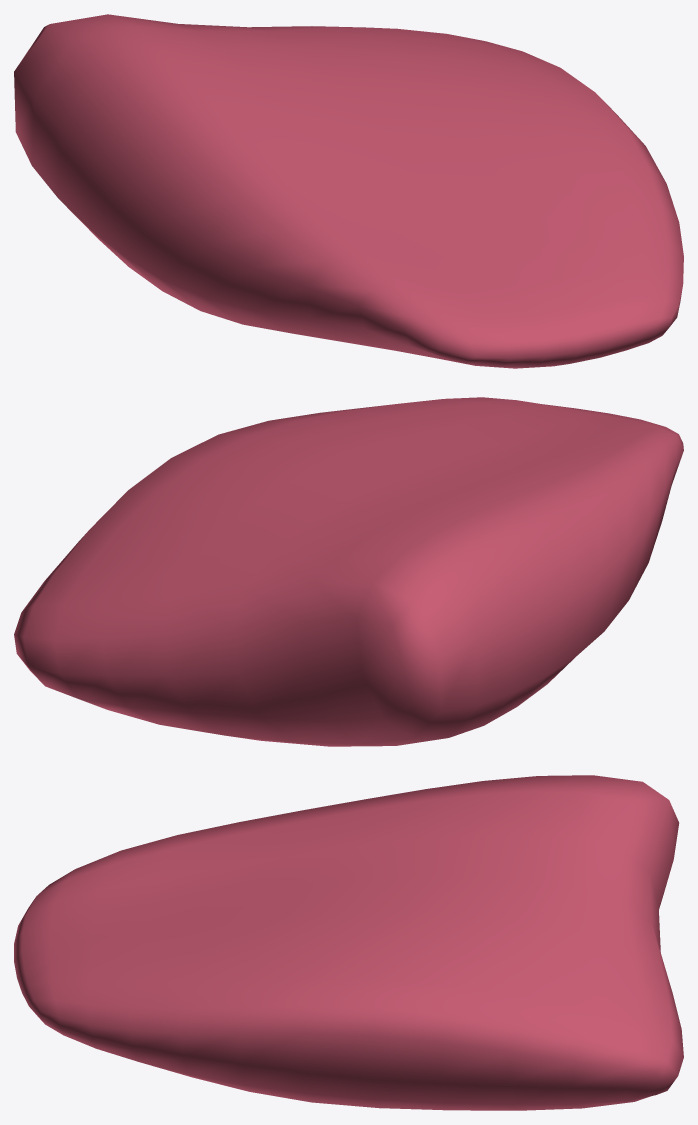
The picture shows the model from 3 angles, top to bottom: view 1: azimuth 30°, elevation 25°; view 2: azimuth 150°, elevation 25°; view 3: azimuth 270°, elevation 25°; orthographic projection. The views are drawn at different scales.
Visible parts, largest first — view 1: 右侧跟腱囊; view 2: 右侧跟腱囊; view 3: 右侧跟腱囊.
Boxes of the visible parts, <box> form: 右侧跟腱囊: <box>14,14,683,368</box>; 右侧跟腱囊: <box>14,397,683,746</box>; 右侧跟腱囊: <box>14,775,683,1110</box>.
Size of the model in its own units: 0.0285 by 0.0136 by 0.0394.
